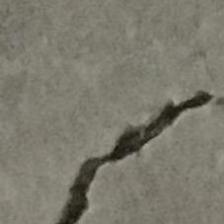Crack: (32, 39, 224, 224)
